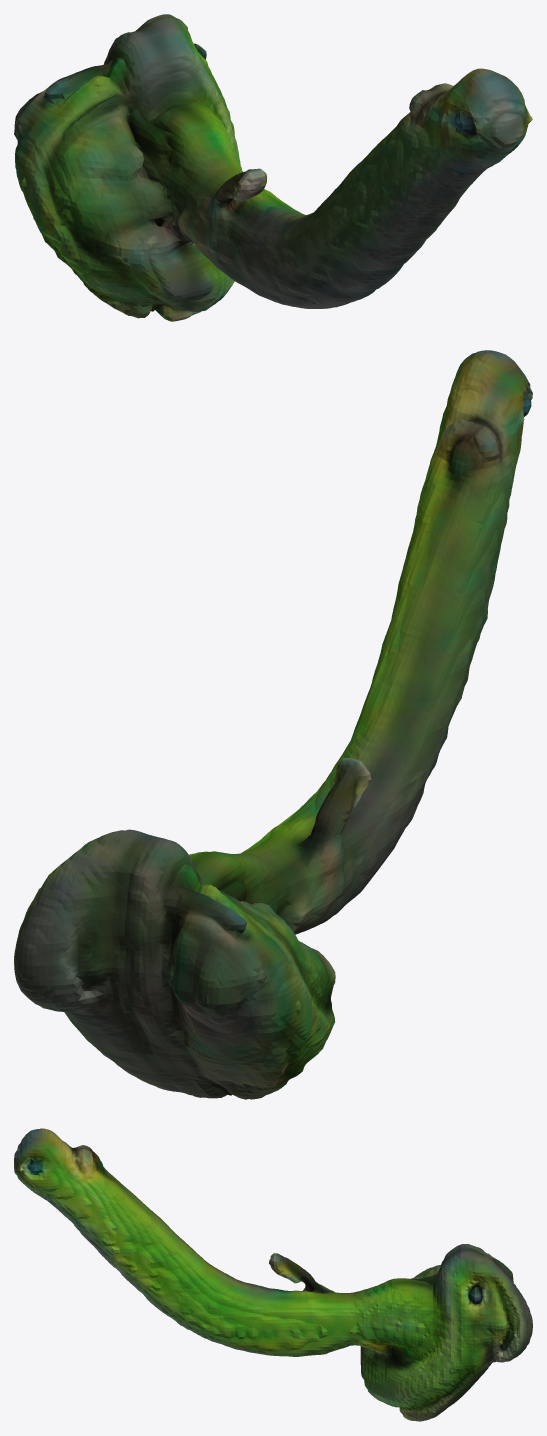
The picture shows the model from 3 angles, top to bottom: view 1: azimuth 30°, elevation 25°; view 2: azimuth 150°, elevation 25°; view 3: azimuth 270°, elevation 25°; orthographic projection. The views are drawn at different scales.
Bounding box in the file's own units: 0.3241 × 0.6405 × 1.02.
